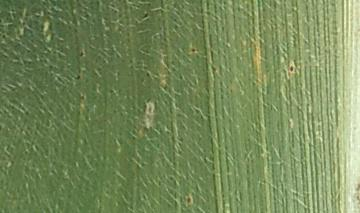tarspot: (142, 11, 150, 21), (288, 64, 295, 74), (77, 50, 85, 58), (106, 88, 115, 95), (73, 75, 82, 81), (355, 182, 360, 192), (186, 196, 192, 204), (79, 94, 85, 101), (190, 47, 195, 54), (145, 71, 150, 78)
